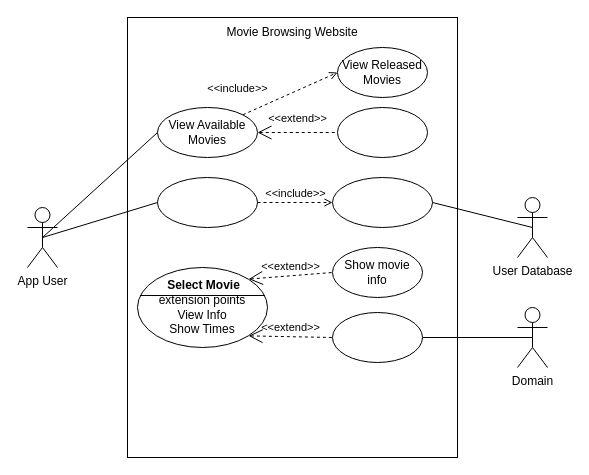
This 589x475 diagram has some shape labels left out. Each missing label, with the centre of its shape:
Log in: pixel 207 202
Provide Show Times: pixel 377 337
Verify Login: pixel 382 202
View Early Movies: pixel 382 132
